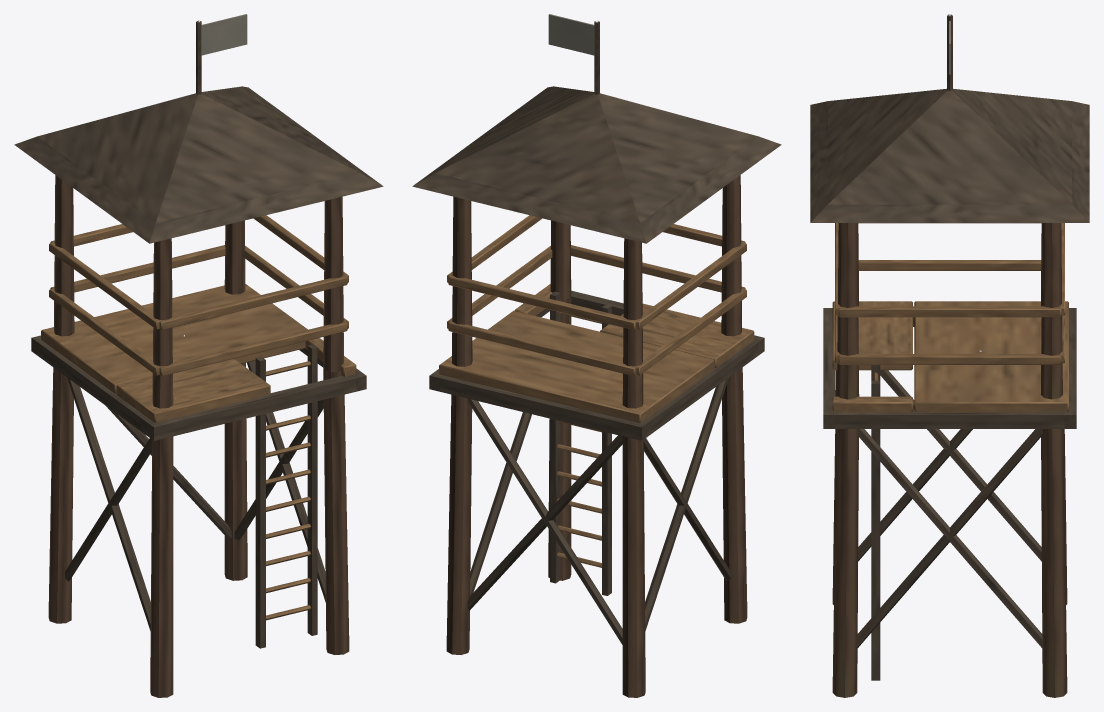
The model's file is SM_Watchtower.fbx.
The picture shows the model from 3 angles, left to right: view 1: azimuth 30°, elevation 25°; view 2: azimuth 150°, elevation 25°; view 3: azimuth 270°, elevation 25°; orthographic projection. The views are drawn at different scales.
Visible parts, largest first — view 1: SM_Watchtower; view 2: SM_Watchtower; view 3: SM_Watchtower.
Boxes of the visible parts, x1,y1,x2,y2 form: SM_Watchtower: (14, 14, 383, 697); SM_Watchtower: (412, 14, 781, 697); SM_Watchtower: (810, 14, 1089, 697).
Size of the model in its own units: 9.05 by 22.65 by 9.05.
Materials: 1 (1 with a texture image).
